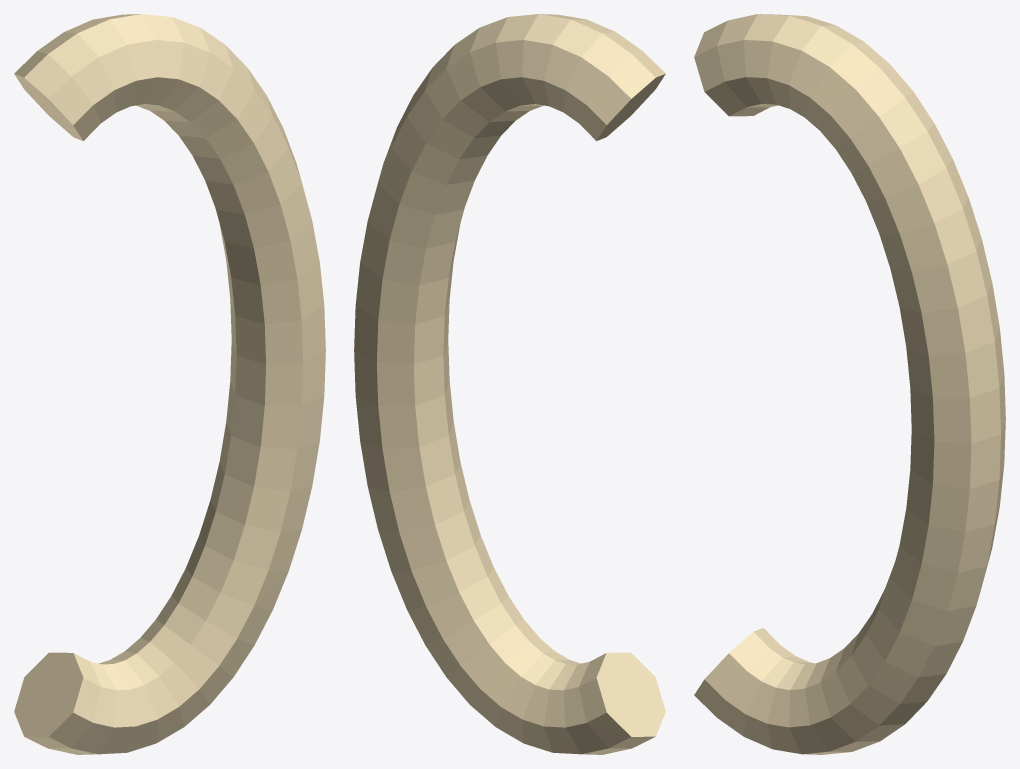
File: ACC_Crescent_Moon.glb
The picture shows the model from 3 angles, left to right: view 1: azimuth 30°, elevation 25°; view 2: azimuth 150°, elevation 25°; view 3: azimuth 330°, elevation 25°; orthographic projection.
Visible parts, largest first — view 1: ACC_Crescent_Moon_1; view 2: ACC_Crescent_Moon_1; view 3: ACC_Crescent_Moon_1.
Part boxes in pixels (x1,y1,x2,y2): ACC_Crescent_Moon_1: (14, 14, 325, 754); ACC_Crescent_Moon_1: (354, 14, 665, 754); ACC_Crescent_Moon_1: (694, 14, 1005, 754).
Size of the model in its own units: 0.0183 by 0.0432 by 0.0052.
